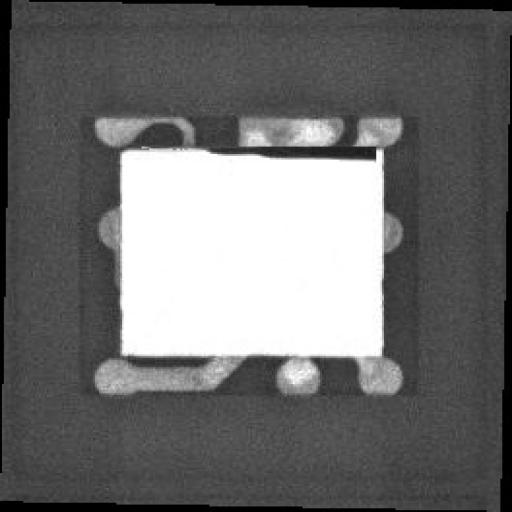DIE_BROKEN: (202, 139, 380, 162)
